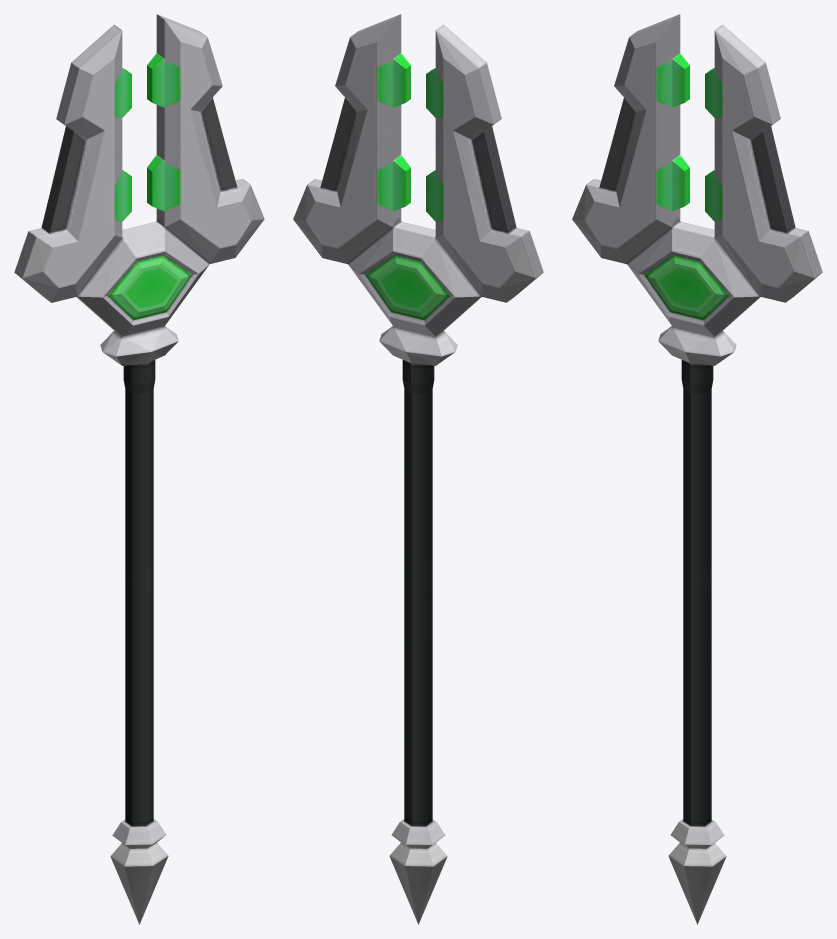
The model's file is fazhang_01.FBX.
The picture shows the model from 3 angles, left to right: view 1: azimuth 30°, elevation 25°; view 2: azimuth 150°, elevation 25°; view 3: azimuth 330°, elevation 25°; orthographic projection.
Visible parts, largest first — view 1: Object001; view 2: Object001; view 3: Object001.
Boxes of the visible parts, left/top/right/bottom form: Object001: left=14, top=14, right=264, bottom=924; Object001: left=293, top=14, right=543, bottom=924; Object001: left=572, top=14, right=822, bottom=924.
Size of the model in its own units: 0.7049 by 2.51 by 0.1363.
